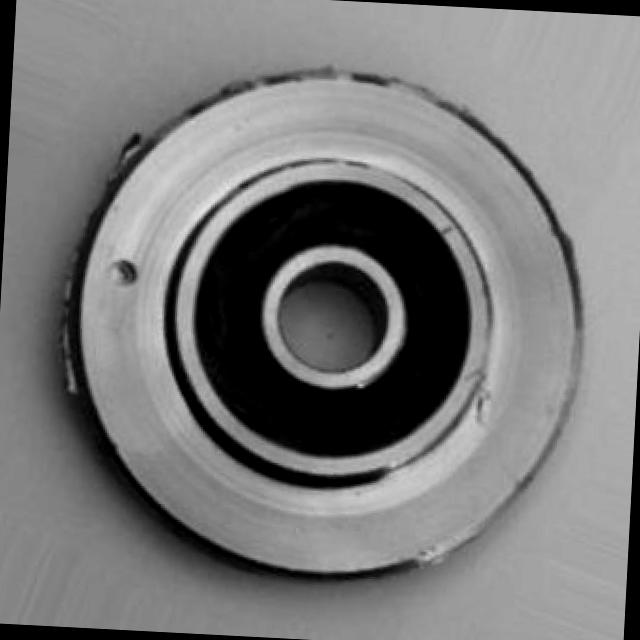Defect: (108, 251, 146, 290)
